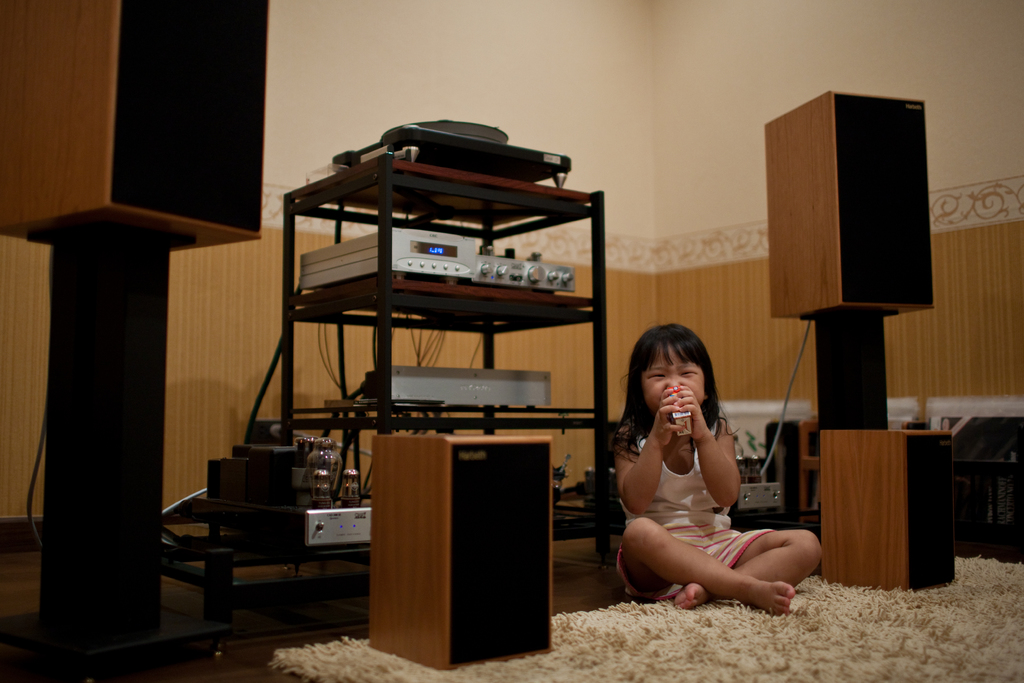Human-face: (642, 345, 704, 409)
